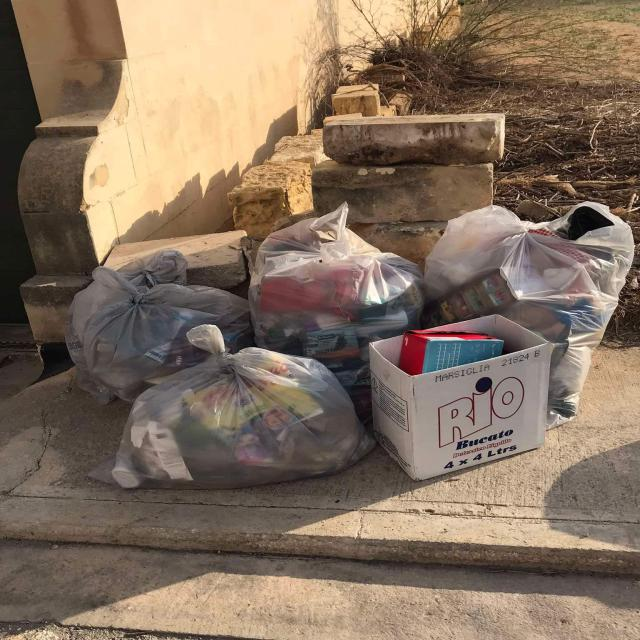Other: (369, 316, 553, 482)
Recycled Waste -Grey or Green Bag-: (85, 325, 380, 492), (428, 204, 637, 431), (250, 205, 425, 426), (64, 250, 252, 405)
